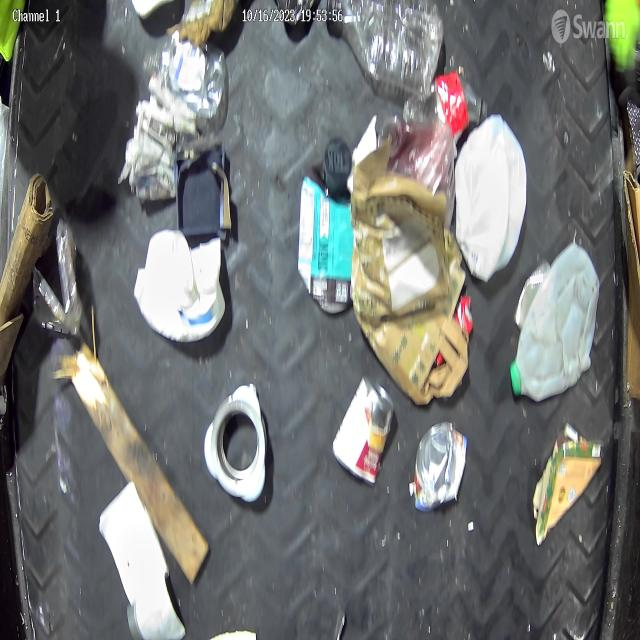can: (330, 369, 397, 494), (405, 415, 468, 511)
milk_jug: (509, 236, 603, 401), (448, 111, 528, 290), (130, 231, 224, 352), (405, 68, 489, 138)
plastic_bottle: (324, 0, 444, 100)
